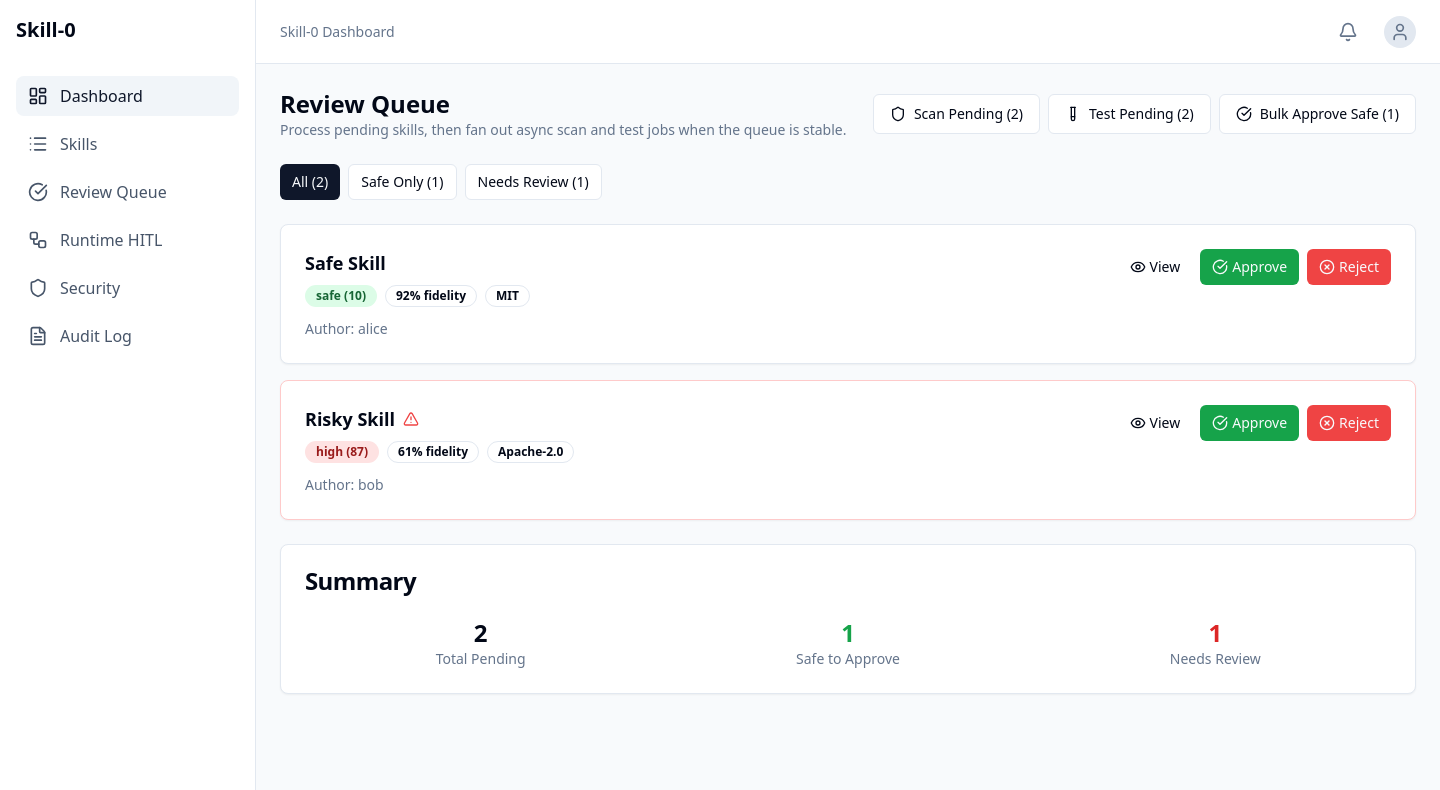
it: ReviewQueue async action jobs › retries retriable failed batch items from the review queue
This screenshot has width=1440, height=790.
Click the button "Scan Pending (2)": click(956, 114) [873,94,1040,134]
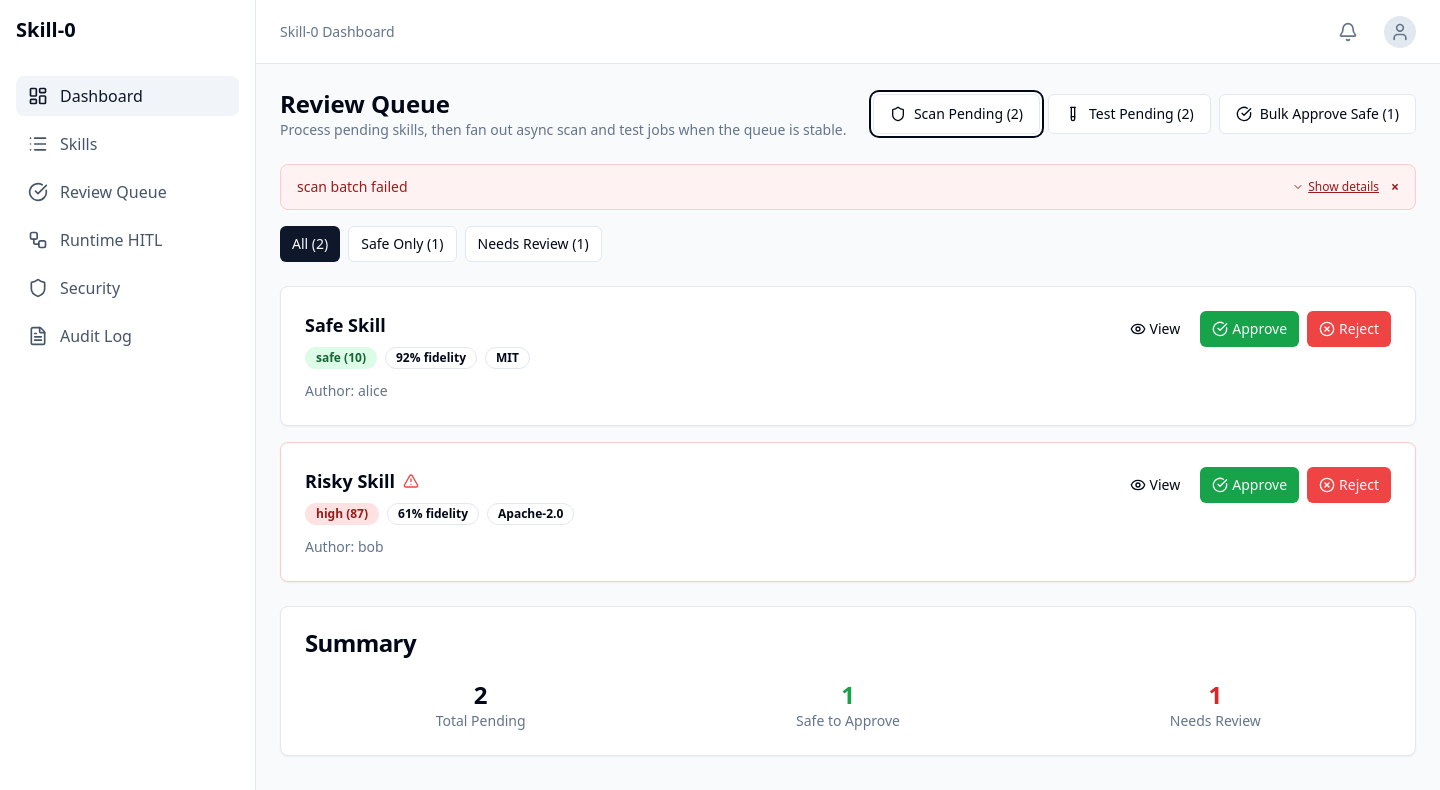
Click the button "Show details": click(1336, 187) [1292,179,1379,195]
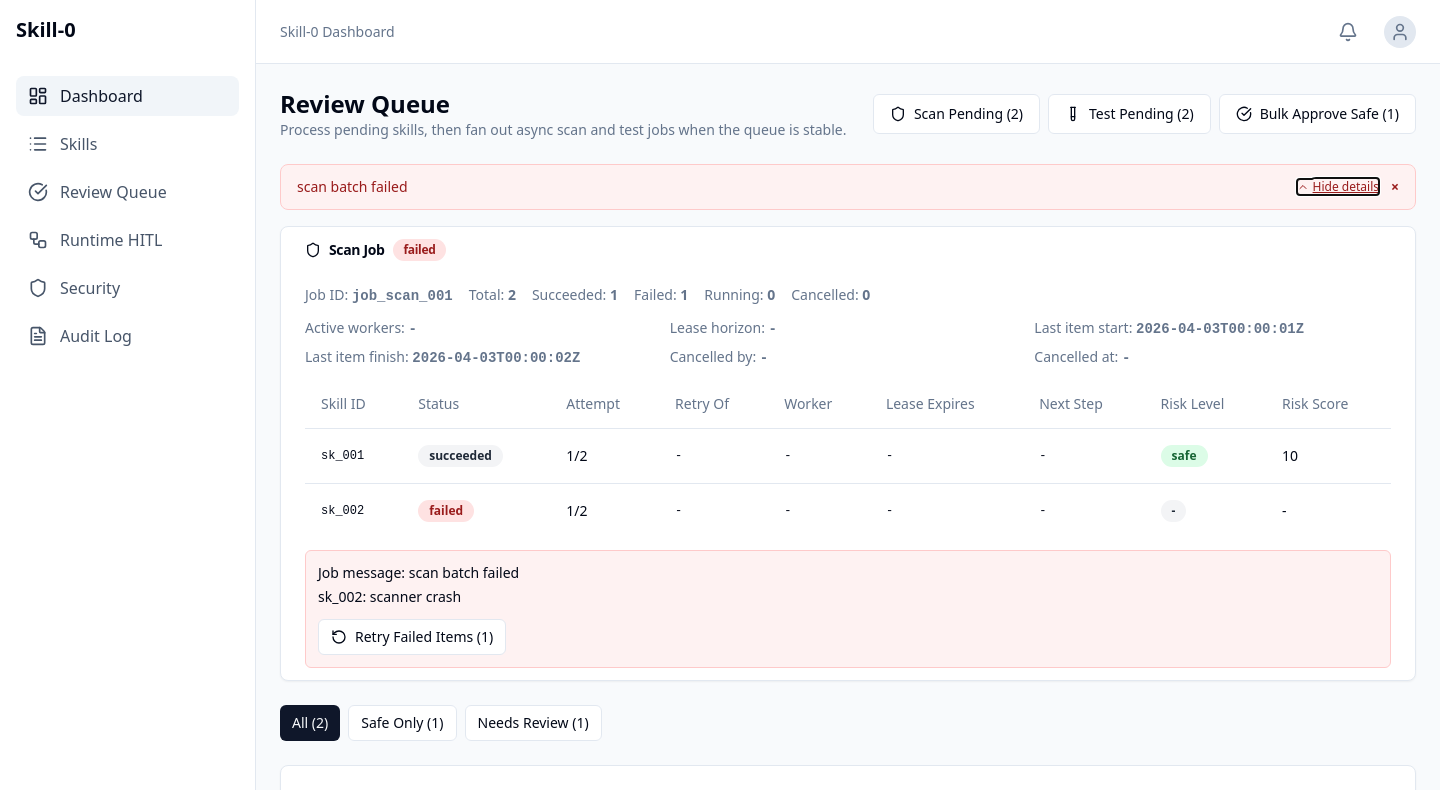
Click the button "Retry Failed Items (1)": click(412, 636) [318,618,506,654]
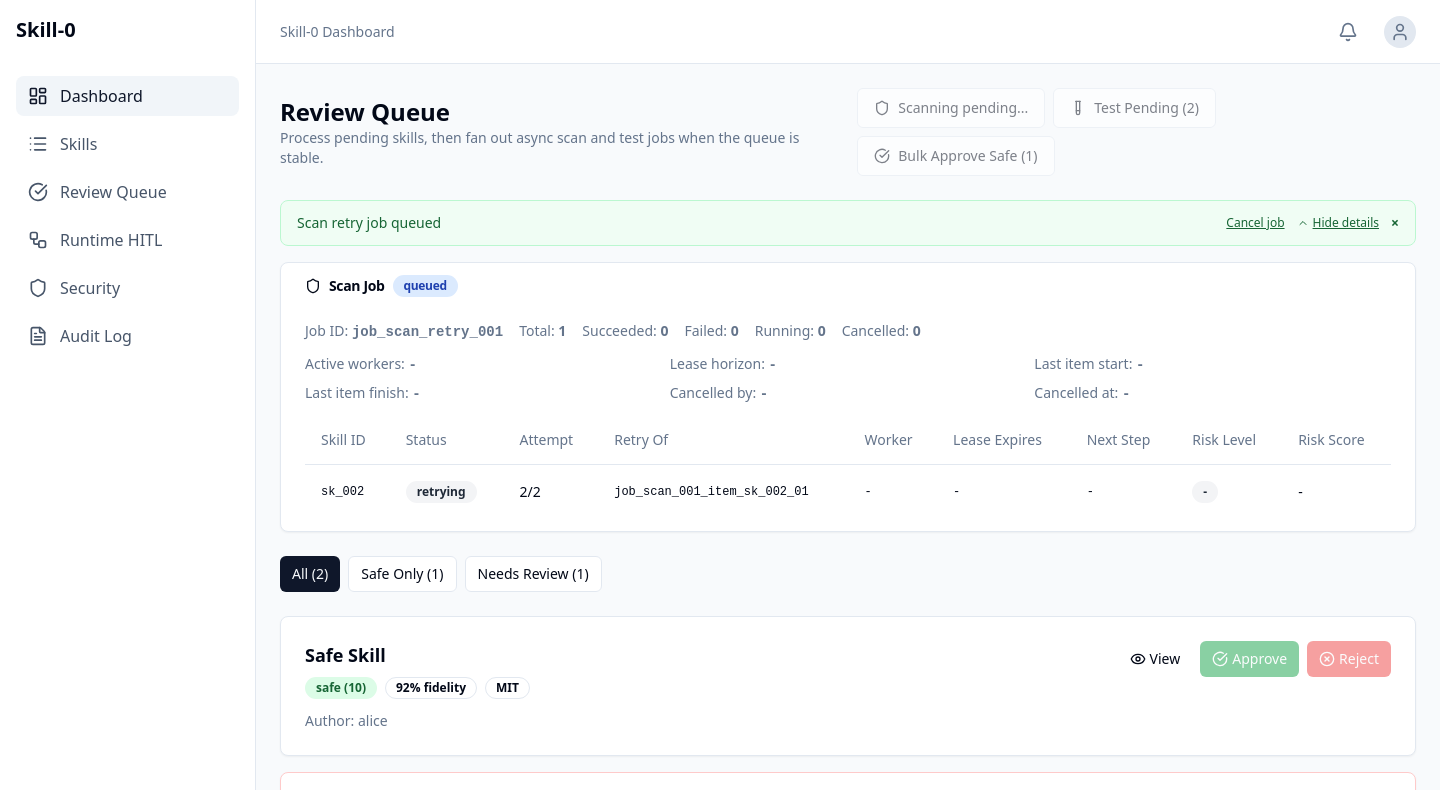
Now the text "Scan retry job queued" is shown, box [297,213,441,233]
